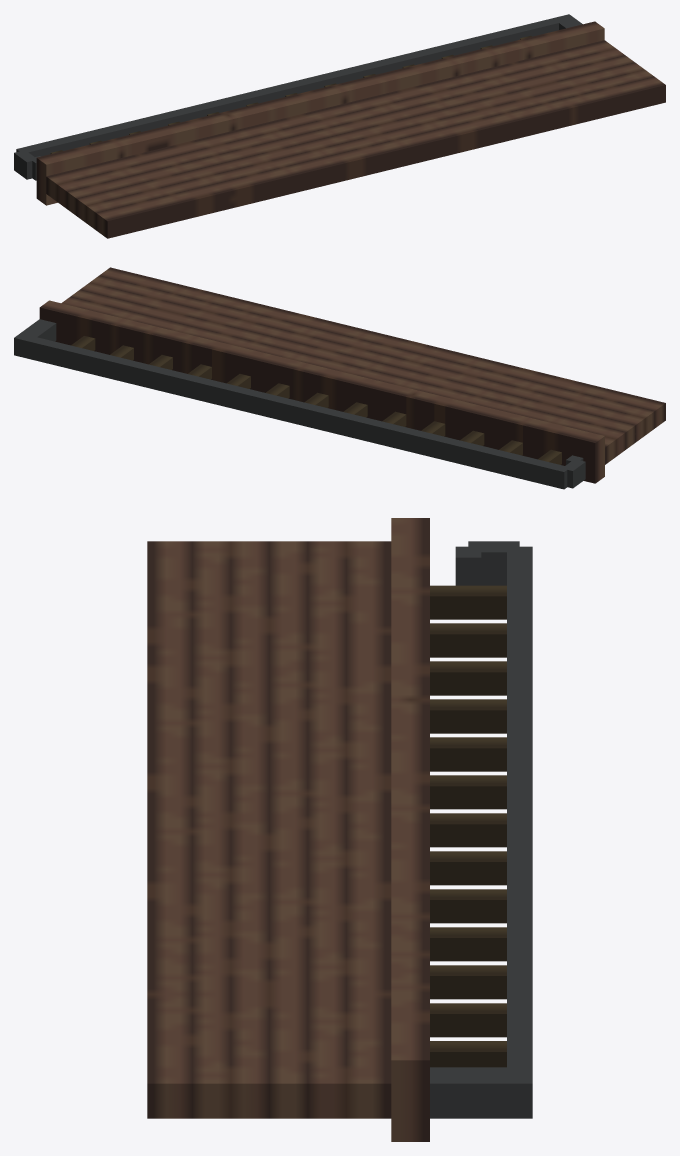
Rendered from OuterFence_SidesTall_00.fbx.
3 views of the same model, one above another, from view 1: azimuth 30°, elevation 25°; view 2: azimuth 150°, elevation 25°; view 3: azimuth 270°, elevation 25° (orthographic). The views are drawn at different scales.
Visible parts, largest first — view 1: OuterFence_SidesTall_00; view 2: OuterFence_SidesTall_00; view 3: OuterFence_SidesTall_00.
Boxes of the visible parts, x1,y1,x2,y2 form: OuterFence_SidesTall_00: (14, 14, 665, 238); OuterFence_SidesTall_00: (14, 267, 665, 489); OuterFence_SidesTall_00: (147, 518, 532, 1141).
Size of the model in its own units: 500 by 35 by 150.
